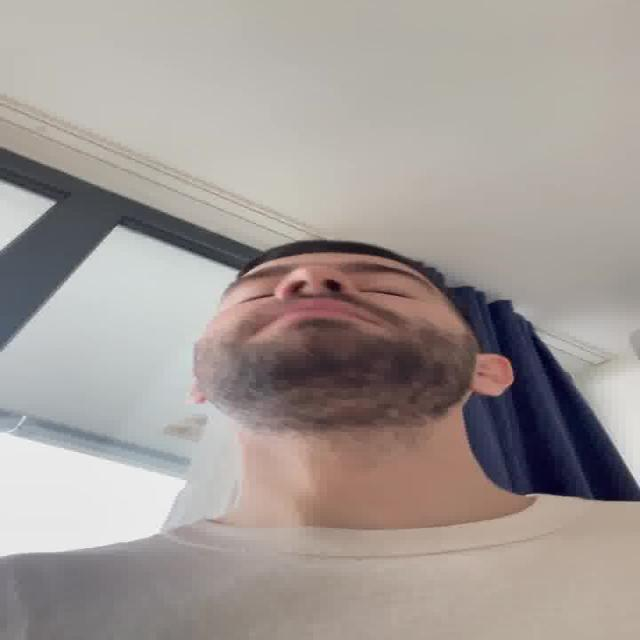earlobe: (466, 380, 508, 399), (183, 386, 210, 406)
eye: (358, 284, 425, 300), (230, 292, 278, 306)
nose: (280, 288, 352, 304)
wholeear: (469, 354, 515, 396)
